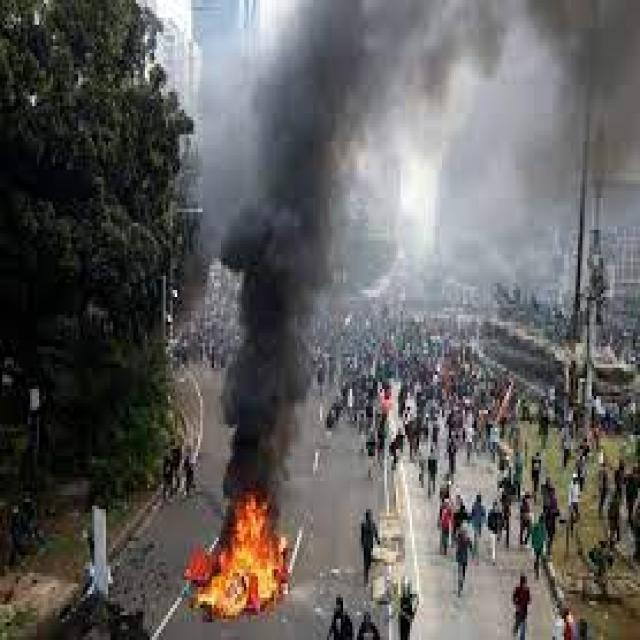Fire: (184, 492, 288, 616)
Smoke: (200, 0, 640, 201), (217, 202, 312, 492), (434, 204, 570, 294)
